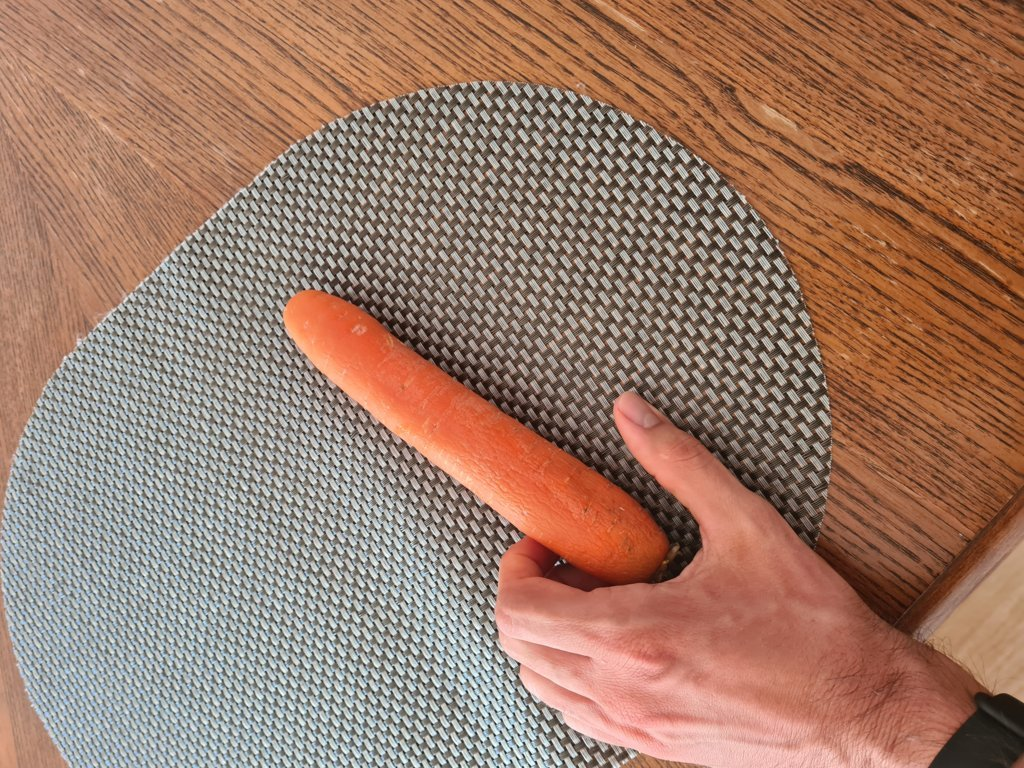carrot: (290, 288, 664, 569)
